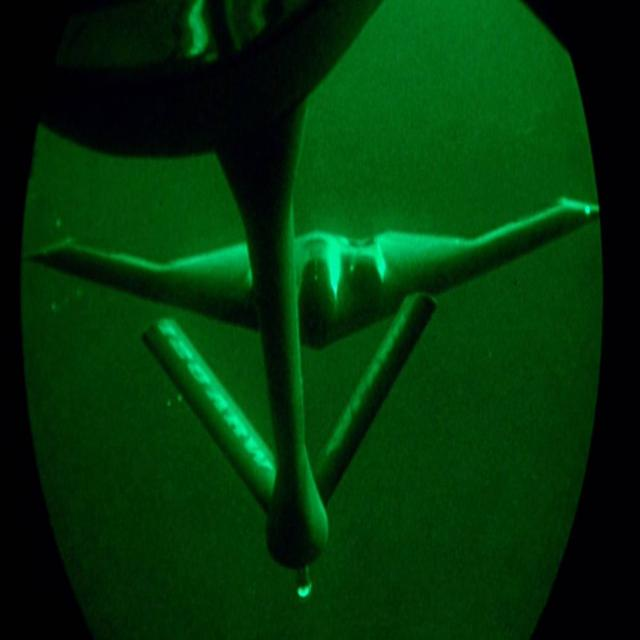MIL_Plane: (21, 192, 600, 352)
